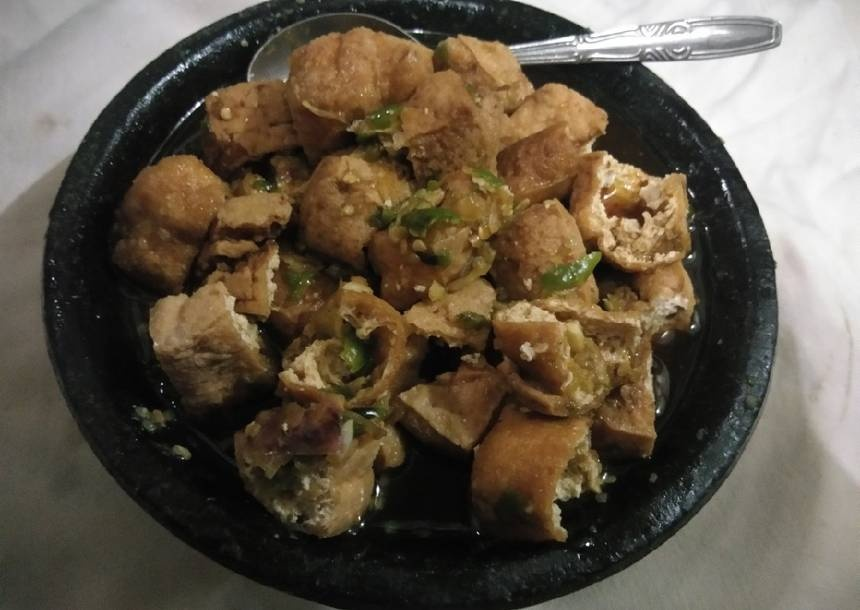tahu_gejrot: (111, 24, 702, 553)
